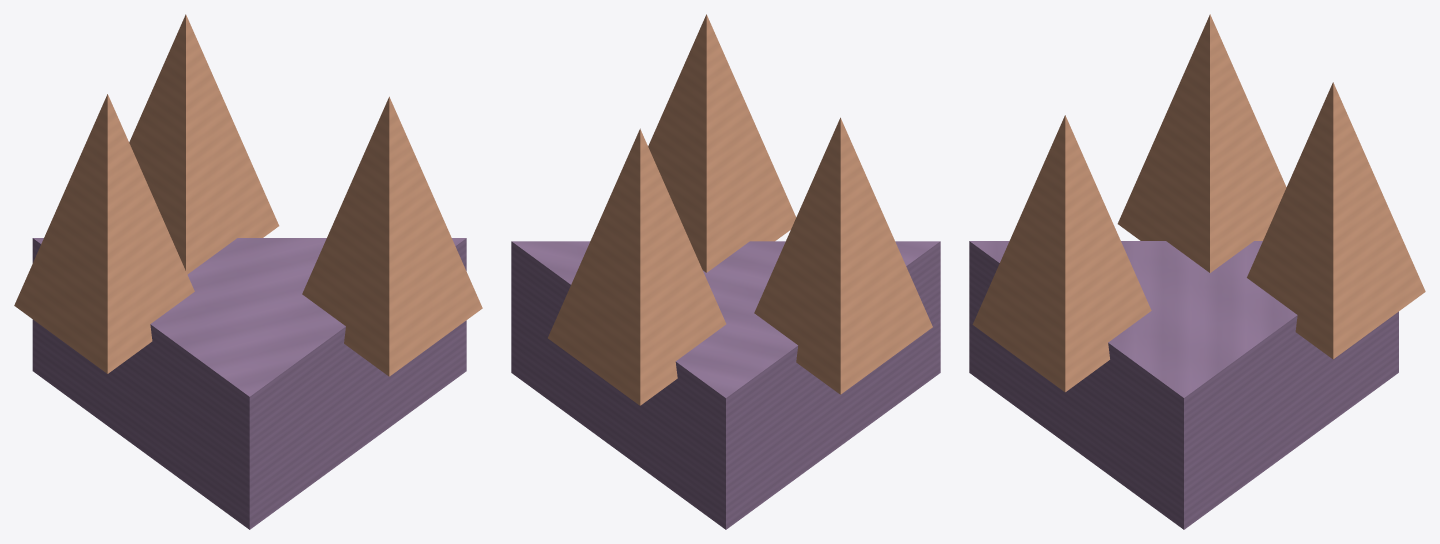
The model's file is atlas100-s081-a12.lod2.glb.
The picture shows the model from 3 angles, left to right: view 1: azimuth 30°, elevation 25°; view 2: azimuth 150°, elevation 25°; view 3: azimuth 270°, elevation 25°; orthographic projection.
Parts seen in each view (by area): view 1: atlas100-s081-a12:part-000, atlas100-s081-a12:part-004, atlas100-s081-a12:part-005, atlas100-s081-a12:part-003; view 2: atlas100-s081-a12:part-000, atlas100-s081-a12:part-005, atlas100-s081-a12:part-003, atlas100-s081-a12:part-004; view 3: atlas100-s081-a12:part-000, atlas100-s081-a12:part-004, atlas100-s081-a12:part-003, atlas100-s081-a12:part-005.
Boxes of the visible parts, box(x1,y1,x2,y2) form: atlas100-s081-a12:part-000: box(32, 238, 466, 529); atlas100-s081-a12:part-004: box(302, 96, 482, 376); atlas100-s081-a12:part-005: box(14, 94, 194, 373); atlas100-s081-a12:part-003: box(129, 14, 279, 274); atlas100-s081-a12:part-000: box(511, 241, 940, 529); atlas100-s081-a12:part-005: box(754, 117, 932, 394); atlas100-s081-a12:part-003: box(548, 128, 726, 405); atlas100-s081-a12:part-004: box(648, 14, 796, 272); atlas100-s081-a12:part-000: box(969, 241, 1398, 529); atlas100-s081-a12:part-004: box(972, 115, 1151, 392); atlas100-s081-a12:part-003: box(1247, 82, 1425, 359); atlas100-s081-a12:part-005: box(1117, 14, 1286, 272).
Bounding box in the file's own units: 1.05 × 0.9 × 1.07.
Materials: 2 (2 with a texture image).
